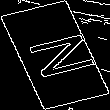N_E: (13, 28, 97, 82)
